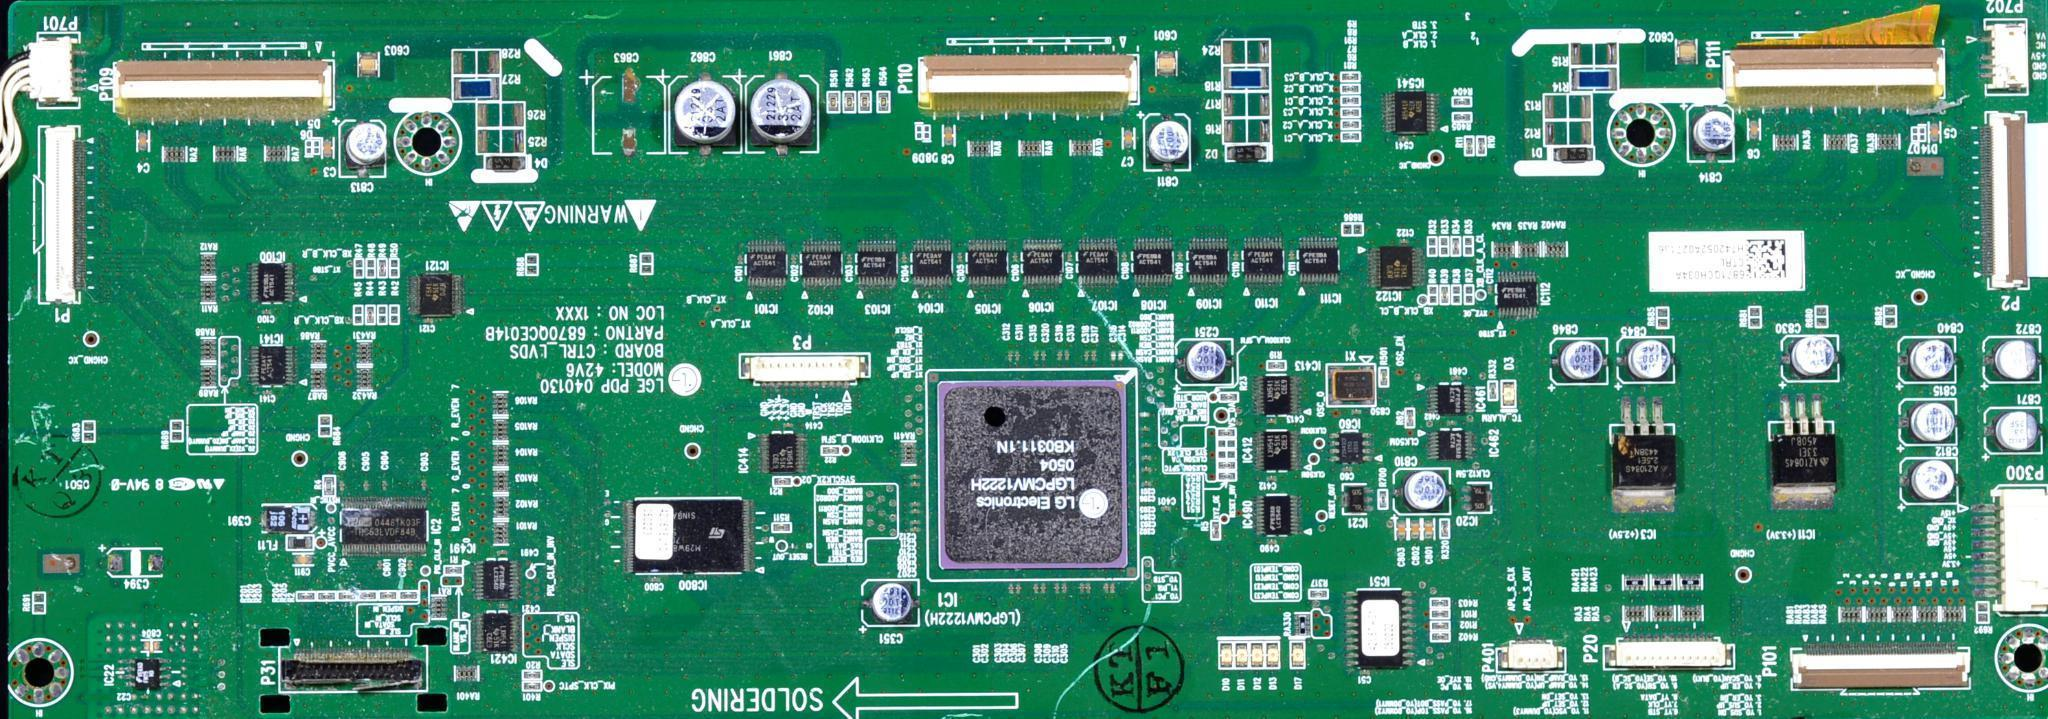Capacitor: (675, 72, 740, 146), (749, 77, 816, 148), (1395, 468, 1451, 516), (345, 119, 390, 176), (1144, 115, 1191, 168), (1554, 340, 1611, 384), (1690, 106, 1736, 159), (1903, 336, 1955, 382), (1786, 336, 1842, 378), (1991, 337, 2039, 382), (1179, 340, 1231, 382), (1990, 409, 2040, 450), (1907, 459, 1957, 500), (867, 584, 918, 623), (1910, 400, 1955, 441), (1627, 341, 1674, 380), (261, 505, 317, 533), (107, 549, 163, 576), (1155, 46, 1177, 77), (359, 49, 380, 77), (1678, 40, 1695, 63), (941, 123, 955, 149), (1747, 117, 1762, 141), (137, 131, 150, 154), (1930, 123, 1942, 145), (291, 553, 314, 565), (1422, 519, 1434, 540), (1395, 520, 1408, 539), (322, 139, 333, 159), (1410, 520, 1421, 540), (1123, 129, 1133, 152), (140, 641, 162, 649), (1140, 479, 1154, 488), (1090, 347, 1098, 361), (1005, 351, 1015, 361), (1081, 349, 1090, 361), (1140, 465, 1153, 473), (362, 479, 369, 491), (909, 518, 920, 527), (420, 479, 428, 490), (379, 479, 387, 490), (337, 480, 345, 492), (1031, 582, 1039, 593), (1140, 442, 1153, 448), (909, 527, 922, 533), (375, 558, 383, 569), (1040, 582, 1047, 592), (1139, 453, 1151, 460), (909, 502, 921, 508), (1007, 582, 1014, 593), (1056, 349, 1063, 358), (1015, 349, 1022, 360), (1161, 506, 1171, 512), (909, 509, 920, 515), (1054, 582, 1061, 592), (1015, 583, 1022, 593), (908, 482, 920, 487), (1040, 350, 1046, 359), (1032, 350, 1039, 359), (1061, 583, 1067, 592), (406, 559, 412, 570), (1079, 582, 1084, 592), (1086, 582, 1091, 592), (1104, 582, 1109, 592), (1110, 583, 1115, 593), (1063, 351, 1070, 358), (908, 474, 921, 479), (1140, 426, 1150, 432)
Connector: (1725, 44, 1946, 110), (913, 52, 1145, 114), (111, 58, 332, 118), (1981, 108, 2048, 294), (1789, 638, 1974, 695), (1971, 486, 2048, 615), (39, 125, 93, 305), (280, 645, 426, 691), (1606, 632, 1738, 672), (743, 353, 868, 385), (1981, 14, 2031, 97), (27, 34, 80, 110), (1500, 640, 1568, 671)
IC: (926, 371, 1137, 581), (623, 495, 753, 576), (1603, 394, 1679, 515), (1768, 393, 1844, 512), (1343, 585, 1416, 672), (339, 497, 430, 557), (1380, 89, 1438, 138), (406, 271, 465, 319), (1250, 492, 1303, 541), (1294, 235, 1344, 287), (1184, 238, 1234, 286), (906, 237, 954, 289), (1238, 236, 1287, 286), (743, 238, 791, 286), (799, 238, 846, 287), (853, 238, 900, 287), (1494, 271, 1541, 320), (1020, 235, 1067, 284), (1253, 426, 1300, 474), (1371, 244, 1423, 289), (965, 236, 1010, 286), (248, 259, 294, 306), (249, 344, 297, 390), (759, 429, 806, 474), (474, 608, 520, 655), (1252, 375, 1301, 419), (473, 556, 522, 599), (1133, 238, 1177, 284), (1424, 381, 1478, 416), (1077, 242, 1119, 284), (1429, 425, 1476, 460), (123, 656, 171, 690), (1326, 429, 1371, 463), (1340, 483, 1374, 517), (1462, 482, 1493, 513)
Resistor: (1223, 119, 1272, 144), (1221, 38, 1271, 63), (1543, 95, 1591, 120), (1223, 64, 1272, 88), (1223, 92, 1270, 116), (1543, 121, 1593, 144), (1570, 42, 1617, 66), (453, 77, 502, 100), (1572, 69, 1616, 90), (81, 419, 96, 443), (1655, 306, 1668, 328), (1814, 306, 1827, 327), (1219, 391, 1239, 404), (317, 416, 331, 436), (639, 252, 651, 274), (1440, 516, 1451, 539), (843, 90, 856, 110), (860, 91, 871, 112), (323, 475, 333, 497), (1749, 308, 1760, 328), (170, 421, 182, 441), (297, 590, 316, 601), (33, 592, 44, 612), (1977, 603, 1989, 622), (828, 91, 838, 112), (1883, 307, 1895, 325), (879, 90, 890, 110), (365, 258, 375, 277), (772, 523, 792, 533), (1379, 366, 1389, 388), (1406, 407, 1415, 429), (1464, 137, 1474, 156), (526, 254, 536, 274), (1217, 428, 1236, 438), (1308, 588, 1328, 598), (357, 591, 377, 600), (1432, 621, 1450, 631), (1454, 98, 1473, 107), (366, 305, 375, 324), (772, 477, 792, 486), (398, 591, 418, 600), (1430, 631, 1450, 641), (1342, 72, 1359, 82), (1341, 94, 1358, 104), (389, 304, 399, 323), (821, 446, 840, 455), (1217, 459, 1235, 468), (1431, 597, 1450, 606), (353, 303, 361, 324), (378, 591, 398, 599), (1454, 114, 1471, 123), (1477, 138, 1487, 155), (378, 259, 386, 276), (1218, 471, 1235, 480), (1431, 609, 1449, 618), (1342, 109, 1361, 117), (1342, 121, 1361, 129), (354, 258, 362, 277), (389, 258, 397, 277), (1267, 362, 1286, 370), (1379, 490, 1387, 510), (337, 591, 357, 599), (523, 681, 541, 689), (1343, 132, 1361, 140), (377, 306, 385, 324), (522, 670, 541, 678), (317, 592, 335, 600), (1452, 238, 1460, 254), (1342, 85, 1360, 92)
